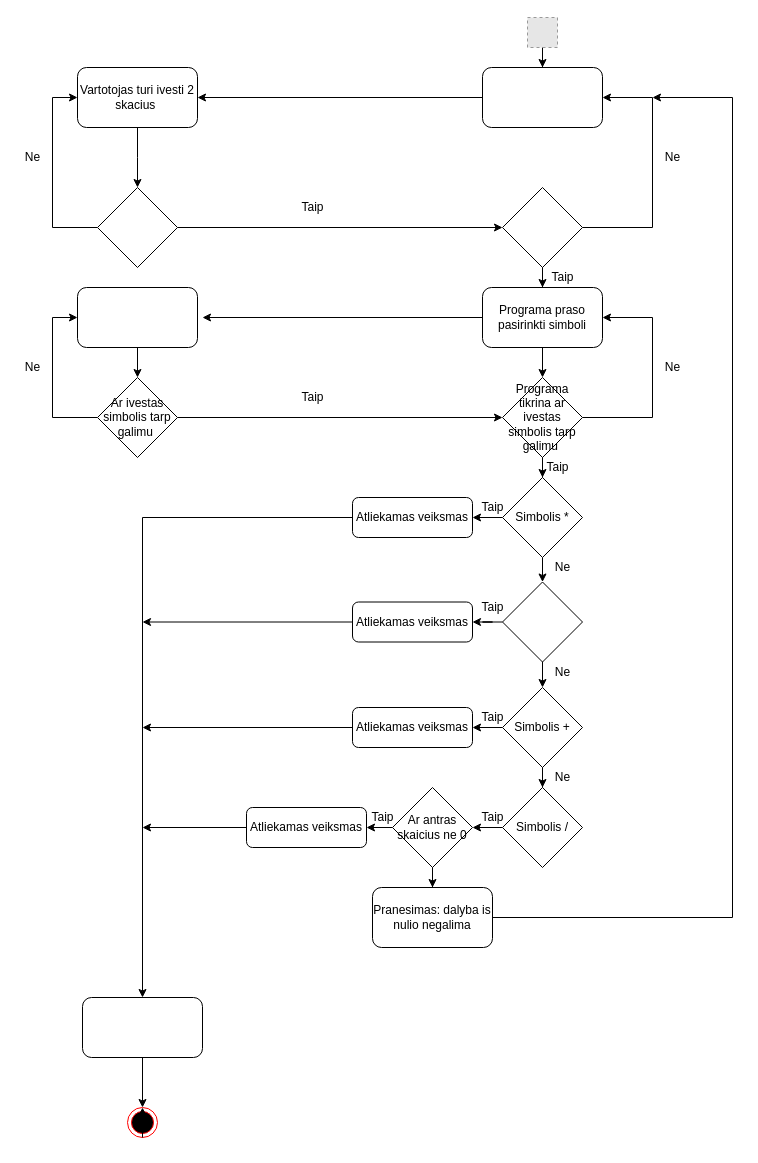
Some shapes in this 758 by 1163 pixel diagram are drawn without their labels. Grey dashed boxes stand in for pictures. Here are the shapes that lost their labels. From the top down, the centre of each, then its label:
At (x=542, y=97): "Programa praso ivesti 2 skaicius".
At (x=137, y=227): "Ar ivesti duomenys skaiciai?".
At (x=542, y=227): "Programa tikrina ar ivesti duomenys skaiciai".
At (x=137, y=317): "Vartotojas turi ivesti simboli is (* / + -)".
At (x=542, y=621): "Simbolis -".
At (x=142, y=1027): "Rodomas rezultatas".
